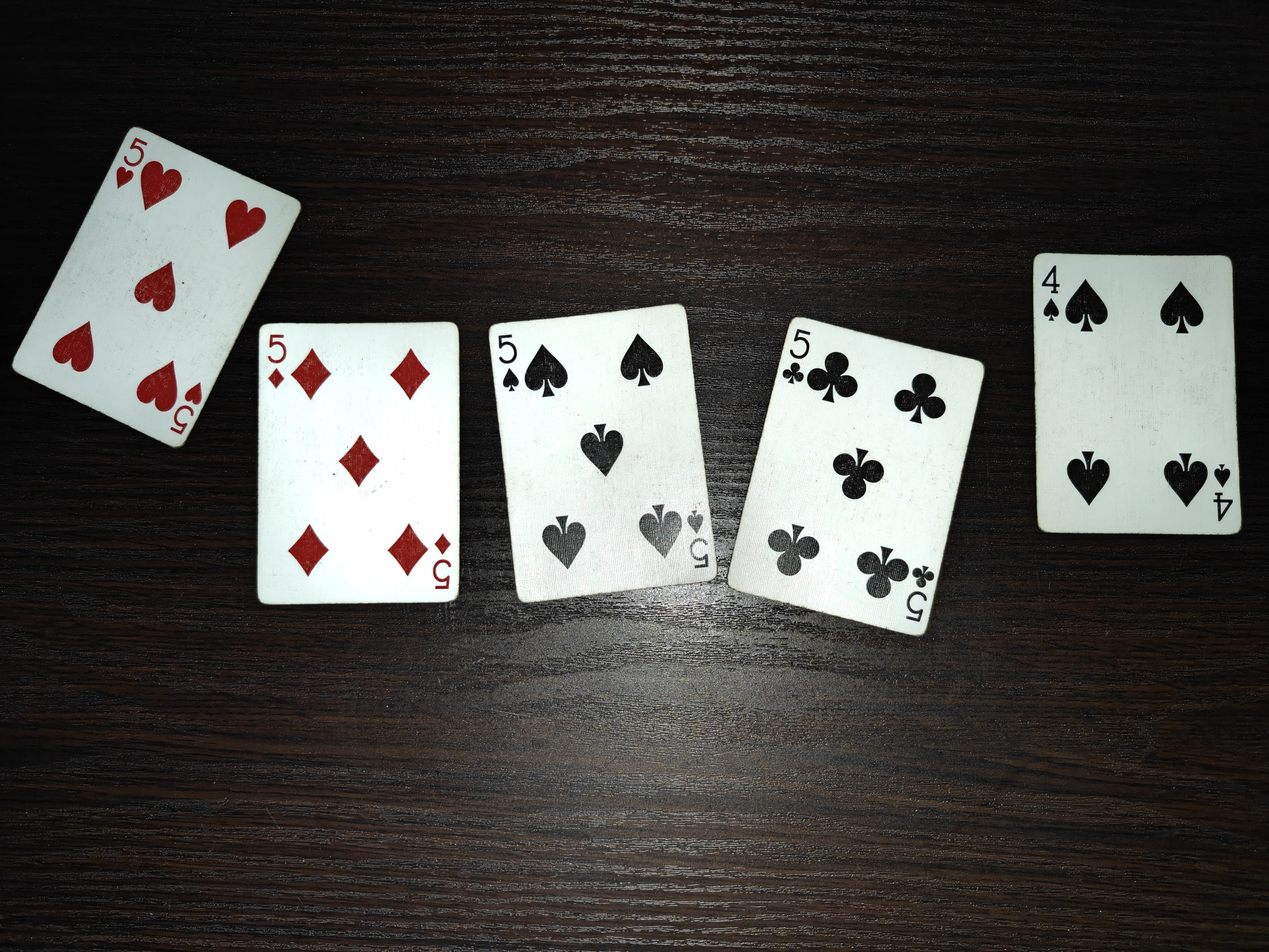4S: (1033, 249, 1243, 535)
5C: (727, 315, 987, 636)
5D: (256, 321, 462, 604)
5H: (12, 125, 303, 448)
5S: (491, 305, 720, 603)
